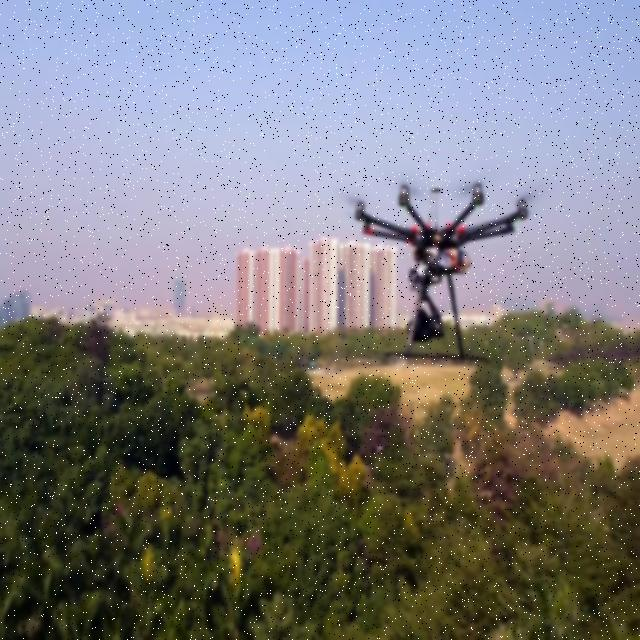UAV: (346, 180, 536, 362)
